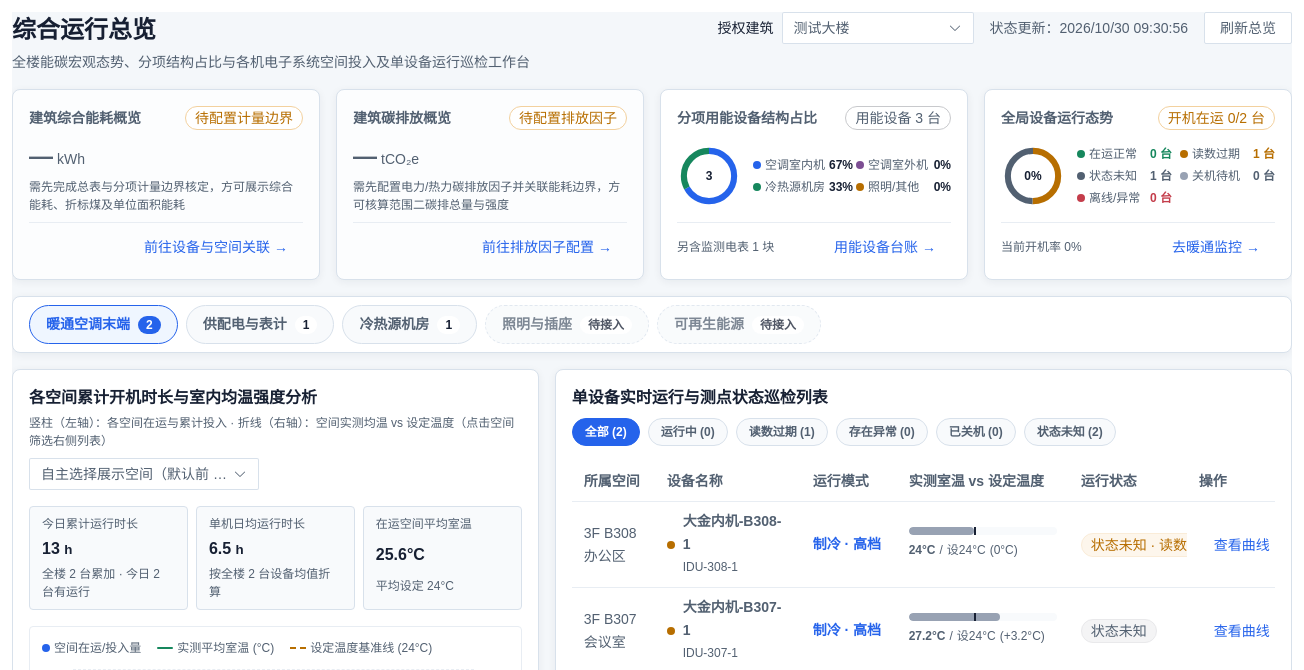
RunningOverviewPage › 总览的无观测和过期设备保持未知，不进入已关机筛选
What coordinates should you click on to do the following:
click the button "已关机 (0)"
I would click on:
 (976, 432)
Its box is [936,418,1016,446].
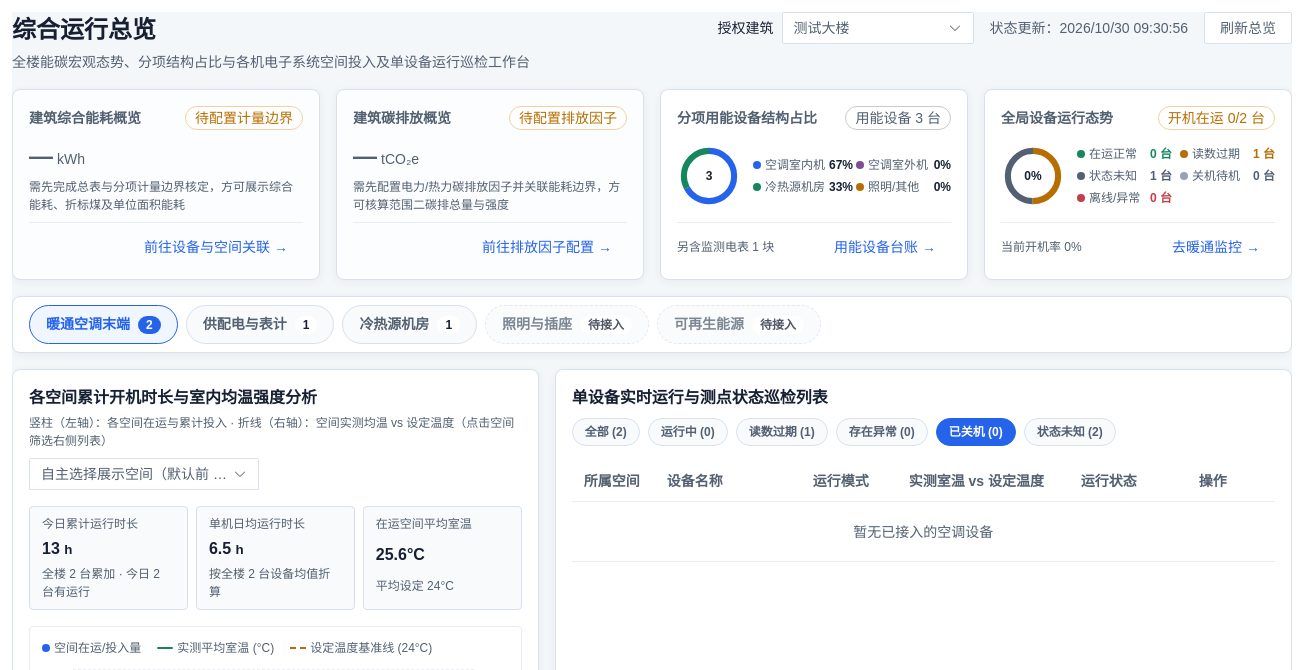
Expected: no rows are shown
What coordinates should you click on to do the following:
click the button "状态未知 (2)"
I would click on:
 (1070, 432)
Its box is [1024,418,1116,446].
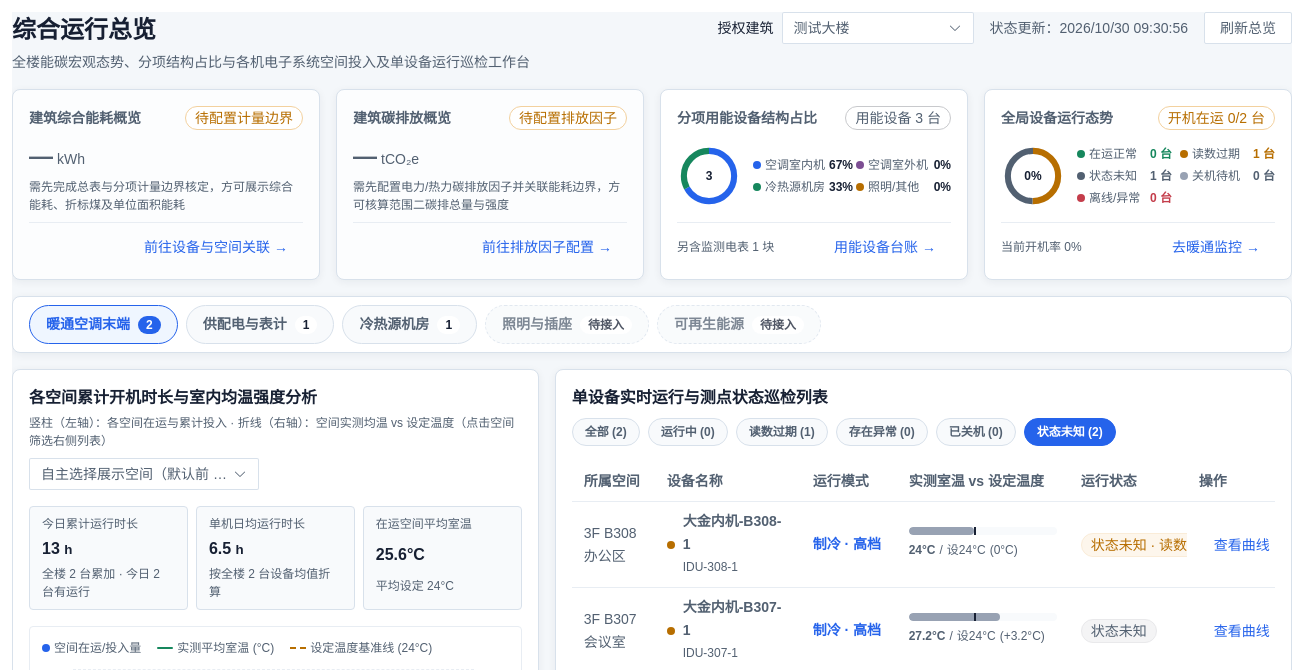
Expected: the text "大金内机-B308-1" is shown, [683,513,782,552]
Expected: the text "大金内机-B307-1" is shown, [683,599,782,638]
Expected: the number of elements with class "dot-unknown" is 2, [667,540,675,548]; [667,626,675,634]
